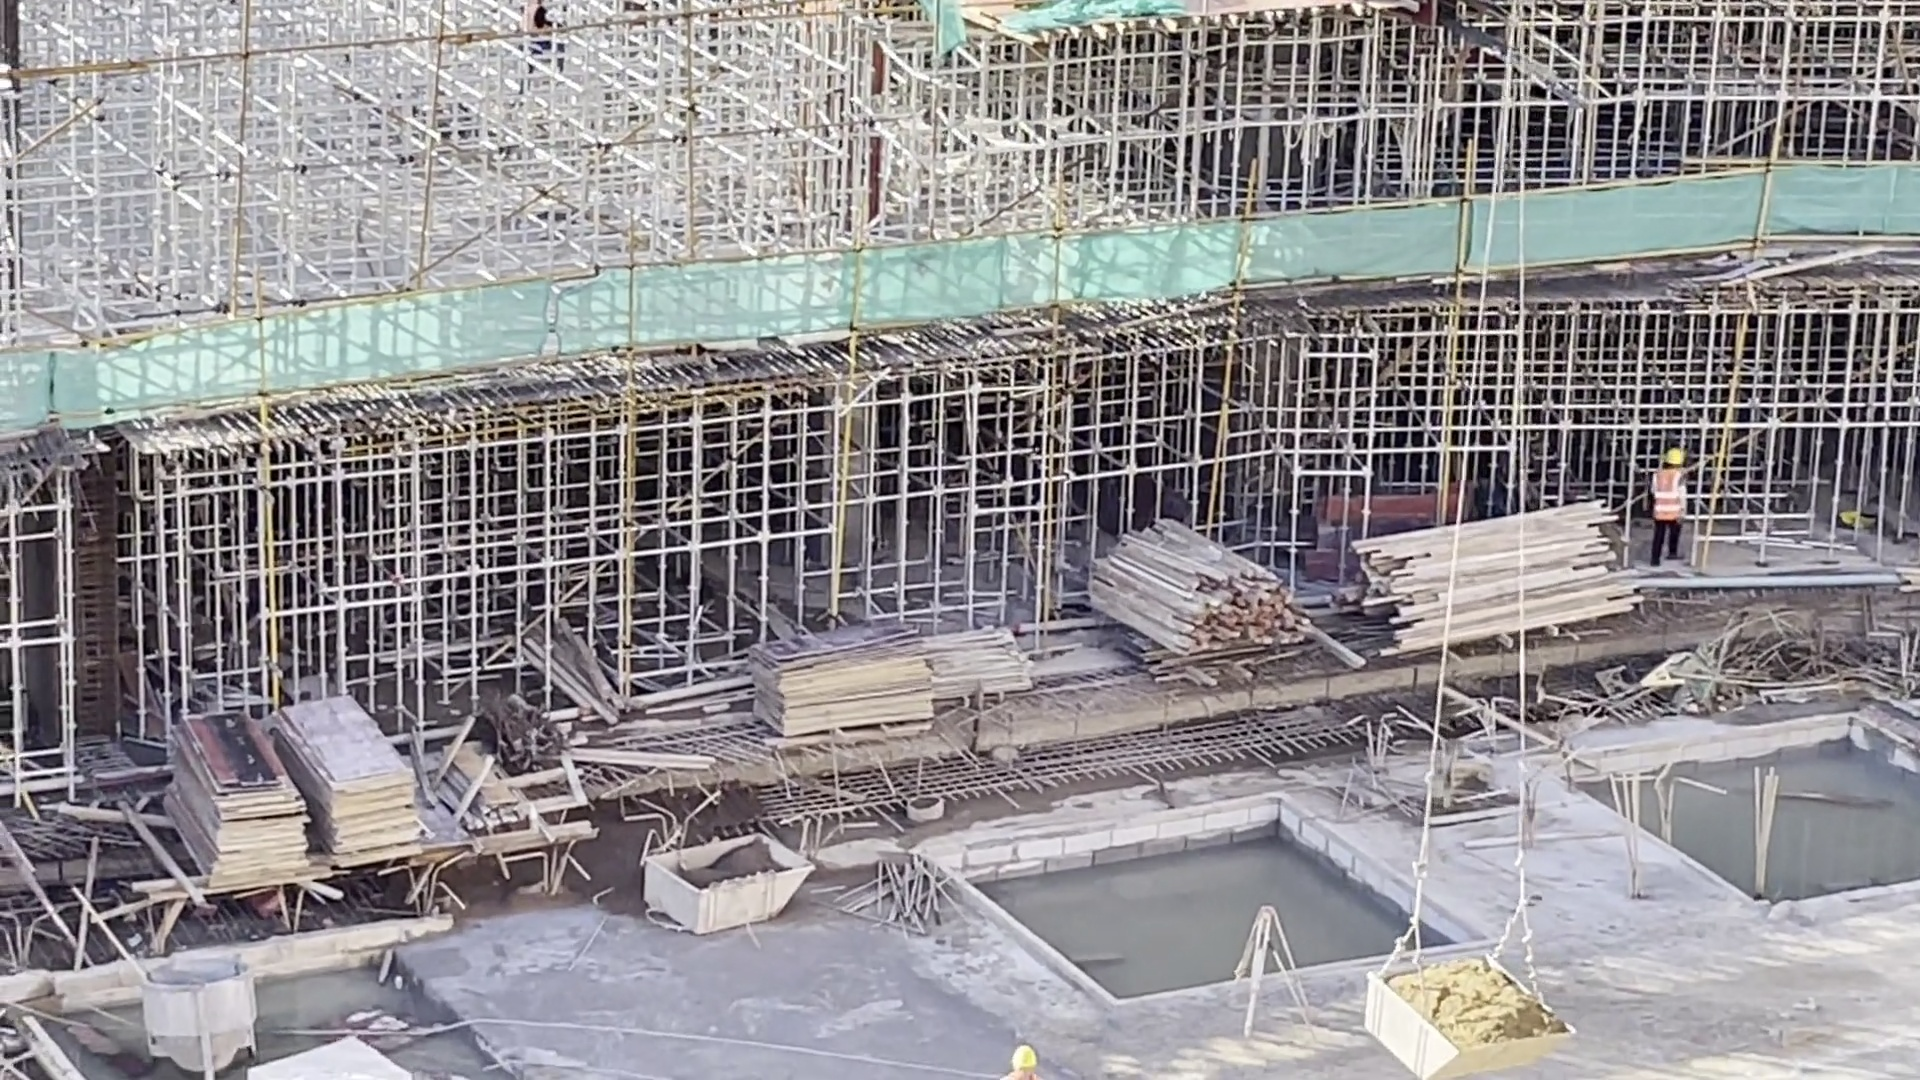board: (267, 690, 429, 876), (154, 711, 314, 894), (747, 619, 943, 746)
brick: (240, 1020, 405, 1080)
helmet: (1006, 1040, 1040, 1070), (1664, 447, 1686, 467)
hopper: (1344, 950, 1576, 1080), (634, 827, 817, 927), (143, 949, 257, 1080)
person: (1643, 443, 1693, 568)
vest: (1654, 470, 1686, 522)
wood: (1351, 500, 1648, 654), (1082, 517, 1312, 657)
